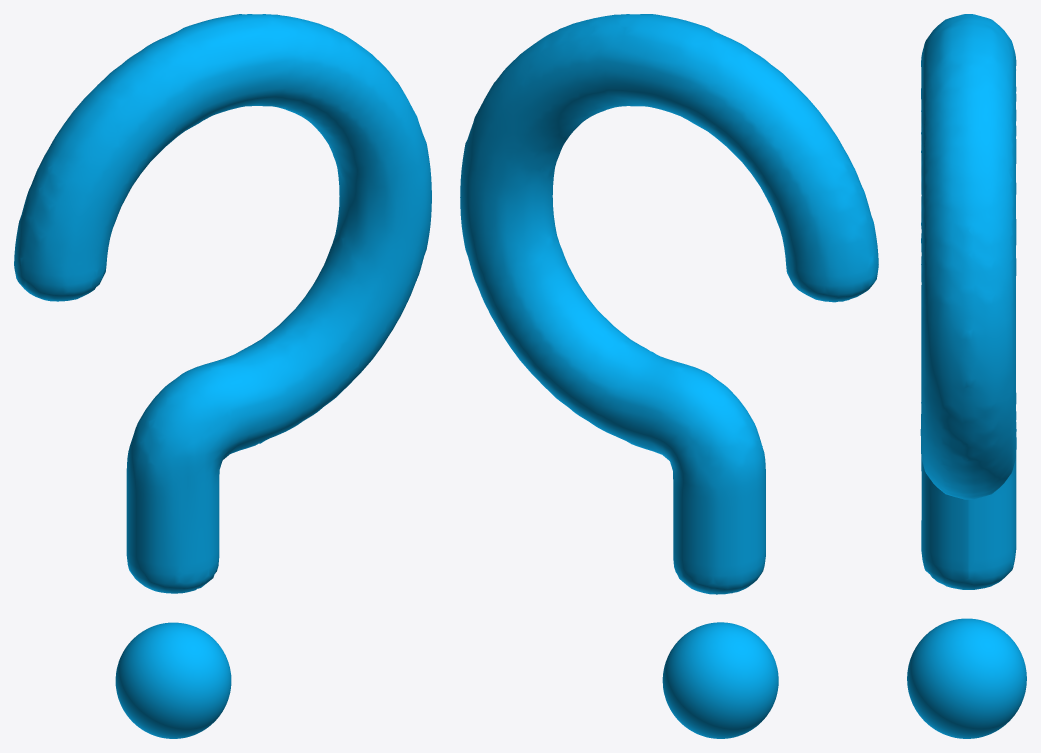
File: question_mark_blue.glb
The picture shows the model from 3 angles, left to right: view 1: azimuth 30°, elevation 25°; view 2: azimuth 150°, elevation 25°; view 3: azimuth 270°, elevation 25°; orthographic projection. The views are drawn at different scales.
Parts seen in each view (by area): view 1: Torus.002; view 2: Torus.002; view 3: Torus.002.
Part boxes in pixels (left/top/right/bottom): Torus.002: left=14, top=14, right=431, bottom=738; Torus.002: left=460, top=14, right=878, bottom=738; Torus.002: left=907, top=14, right=1026, bottom=738.
Bounding box in the file's own units: 7.99 × 13.12 × 1.97.
